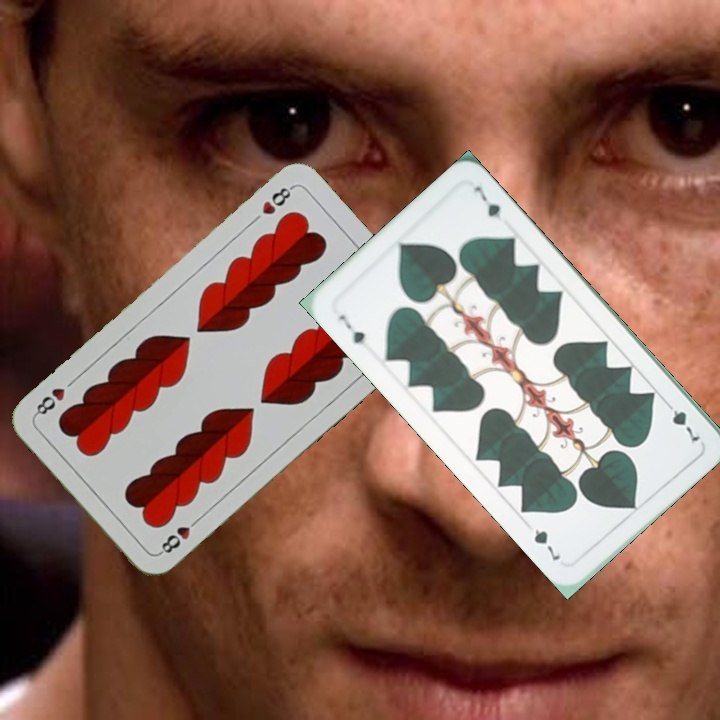G7: (660, 396, 704, 444), (334, 310, 371, 353)
H8: (155, 513, 203, 557), (257, 181, 296, 217)
